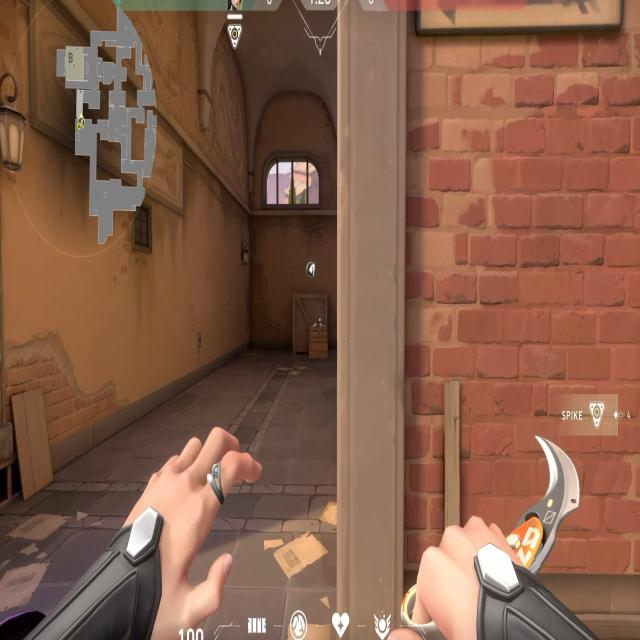B_Main_Wallbang: (254, 258, 320, 352)
Throwables: (260, 150, 325, 220)
